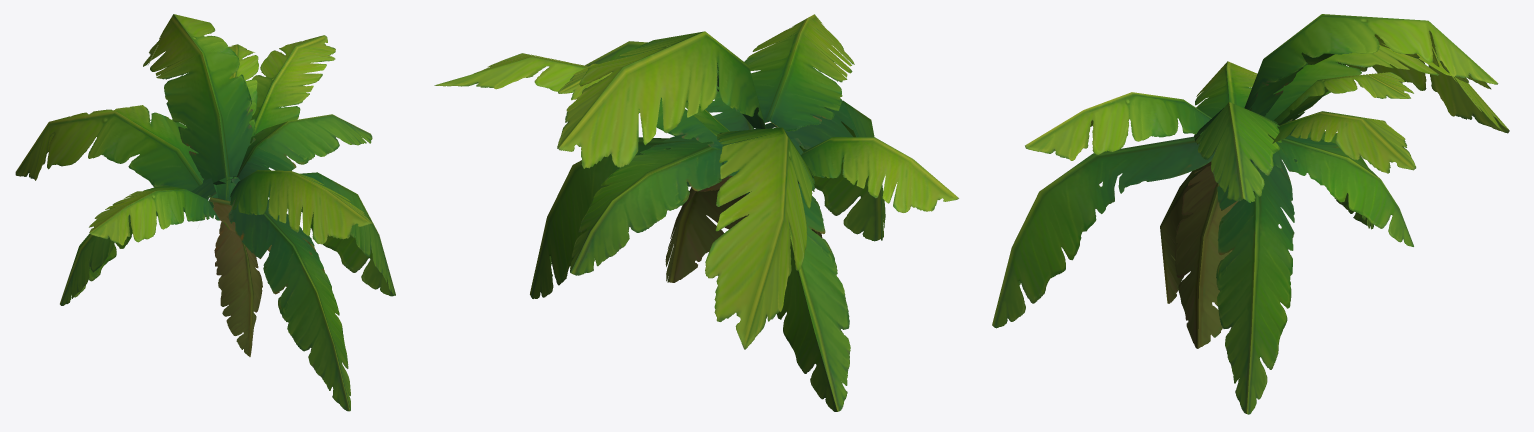
Rendered from scene_lawennushandao_yeshu01a.FBX.
The picture shows the model from 3 angles, left to right: view 1: azimuth 30°, elevation 25°; view 2: azimuth 150°, elevation 25°; view 3: azimuth 270°, elevation 25°; orthographic projection. The views are drawn at different scales.
Visible parts, largest first — view 1: scene_lawennushandao_yeshu01a; view 2: scene_lawennushandao_yeshu01a; view 3: scene_lawennushandao_yeshu01a.
Boxes of the visible parts, left/top/right/bottom form: scene_lawennushandao_yeshu01a: left=15, top=14, right=395, bottom=411; scene_lawennushandao_yeshu01a: left=434, top=14, right=958, bottom=411; scene_lawennushandao_yeshu01a: left=992, top=14, right=1509, bottom=414.
Size of the model in its own units: 348 by 274 by 402.
